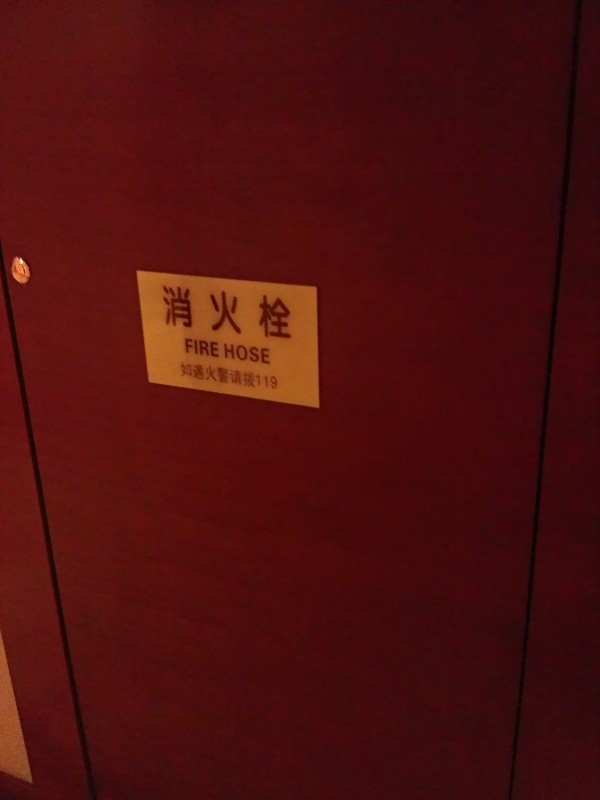text: (177, 284, 192, 341), (193, 284, 208, 341), (209, 284, 224, 341), (225, 284, 240, 341), (241, 284, 256, 341), (257, 284, 272, 341), (273, 284, 288, 341), (162, 284, 176, 341), (193, 361, 208, 392), (209, 361, 224, 392), (225, 361, 240, 392), (241, 361, 256, 392), (257, 361, 272, 392), (225, 342, 240, 365), (241, 342, 256, 365), (181, 361, 192, 392), (257, 342, 271, 365), (193, 338, 208, 358), (289, 284, 293, 341), (209, 338, 220, 358), (273, 361, 278, 392), (185, 338, 192, 358)
